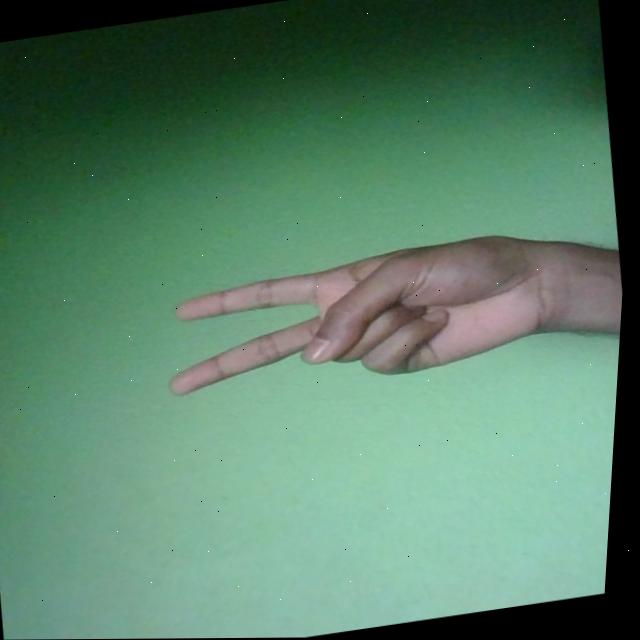Peace: (158, 226, 569, 409)
